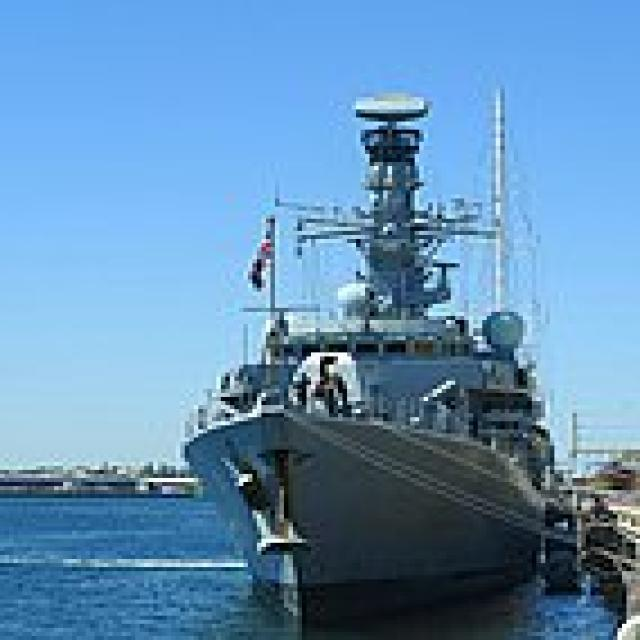Warship: (172, 77, 564, 620)
